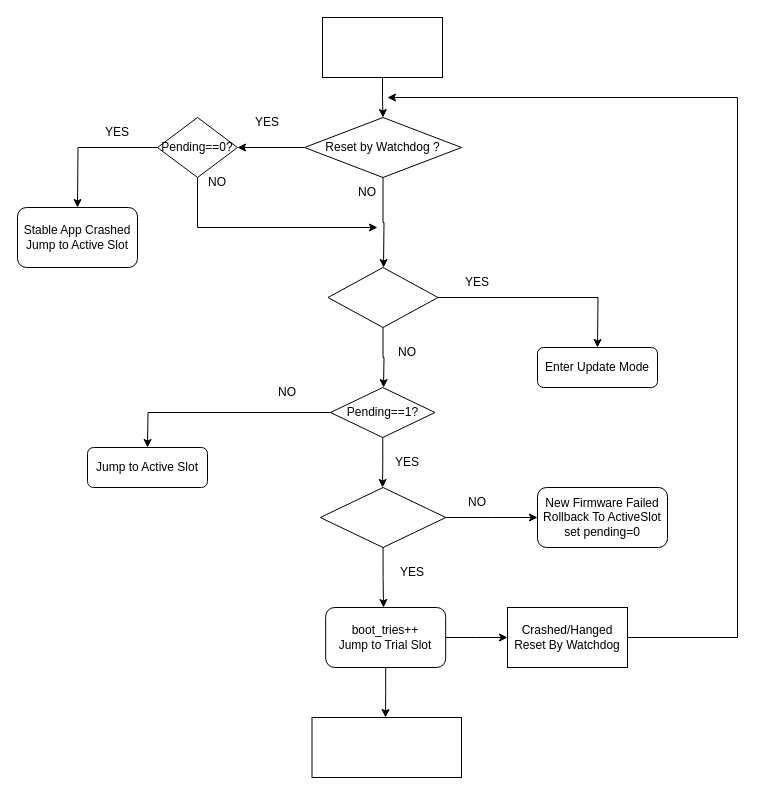
Some shapes in this 763 by 795 pixel diagram are drawn without their labels. The centre of each missing label's shape, as x and y in pixels:
"BOOT (Reset)" belongs at [382,47].
"boot_tries < 3 ?" belongs at [382,517].
"GPIO HIGH ?" belongs at [382,297].
"No Crash pending = 0 Set active_slot = trial_slot" belongs at [386,747].
